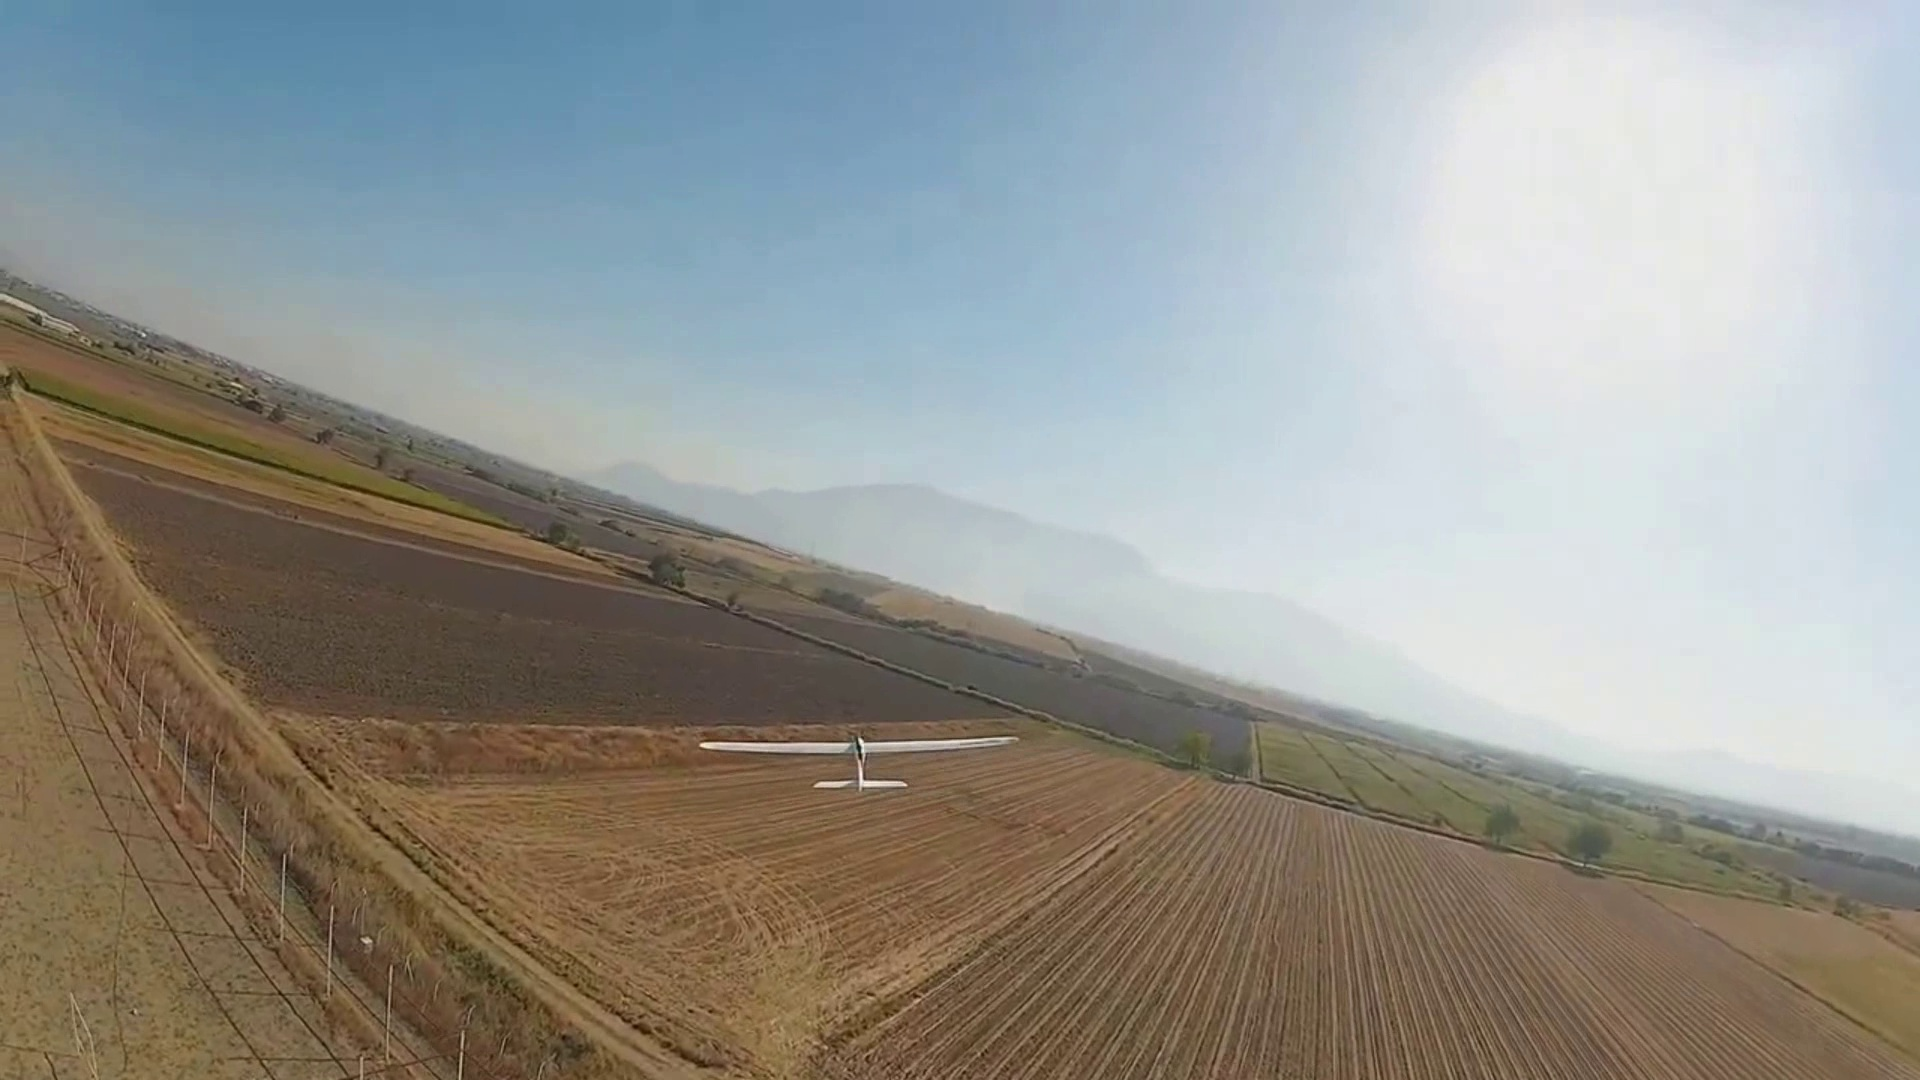airplane: (3, 276, 1917, 886)
